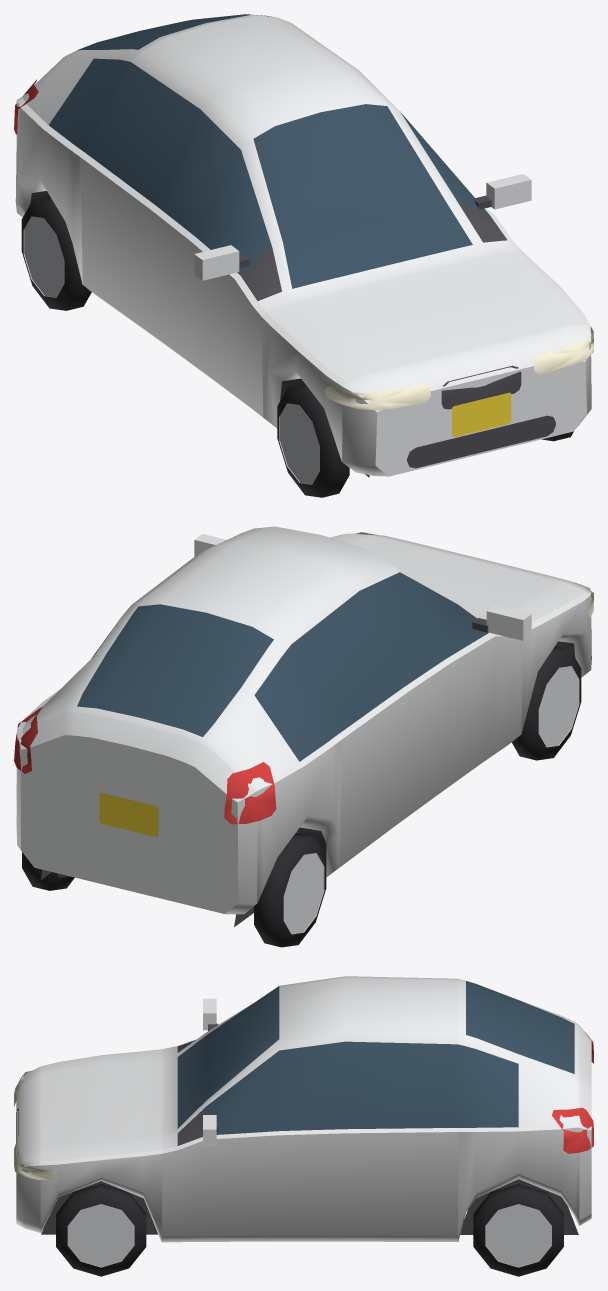
3 views of the same model, one above another, from view 1: azimuth 30°, elevation 25°; view 2: azimuth 150°, elevation 25°; view 3: azimuth 270°, elevation 25° (orthographic). The views are drawn at different scales.
Parts seen in each view (by area): view 1: 352; view 2: 352; view 3: 352.
Boxes of the visible parts, x1,y1,x2,y2 form: 352: (14,14,593,497); 352: (14,526,593,947); 352: (14,976,593,1276).
Bounding box in the file's own units: 1.83 × 1.52 × 3.42.
